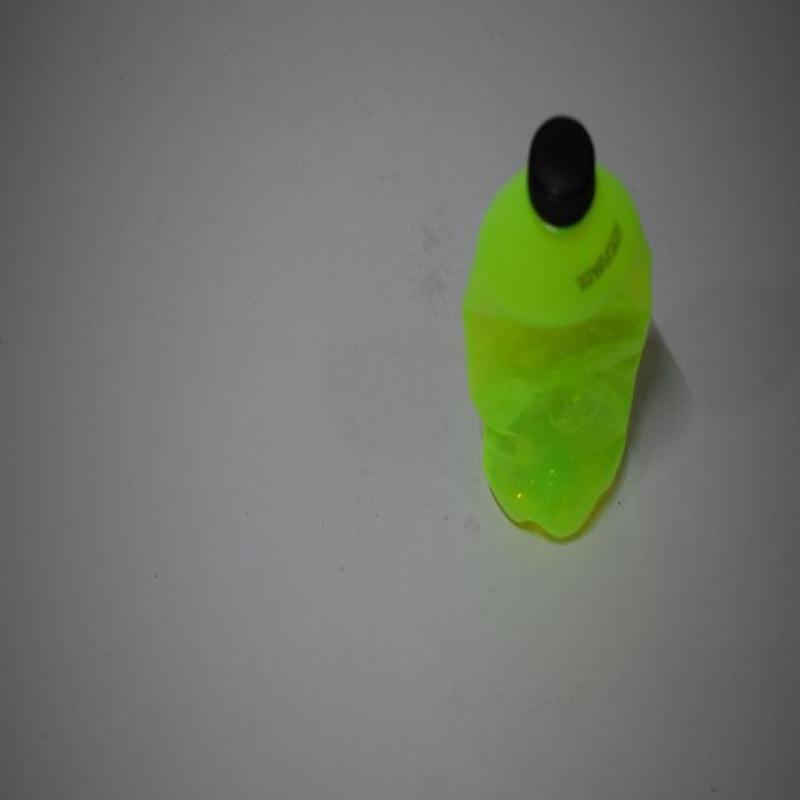botella: (462, 116, 654, 543)
